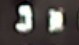MISSING: (9, 2, 38, 37), (44, 3, 70, 37)
